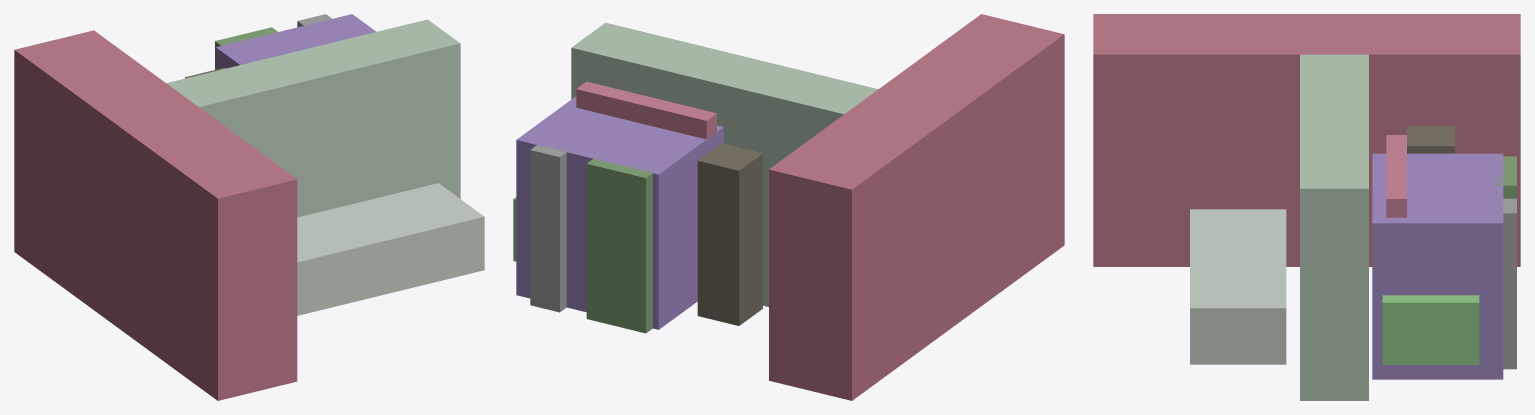
Rendered from 199521_pred.glb.
3 views of the same model, side by side, from view 1: azimuth 30°, elevation 25°; view 2: azimuth 150°, elevation 25°; view 3: azimuth 270°, elevation 25° (orthographic). The views are drawn at different scales.
Parts seen in each view (by area): view 1: world; view 2: world; view 3: world.
Part boxes in pixels (x1,y1,x2,y2): world: (14, 14, 484, 400); world: (513, 14, 1064, 400); world: (1093, 14, 1520, 400).
Bounding box in the file's own units: 6.05 × 3.4 × 6.2.
